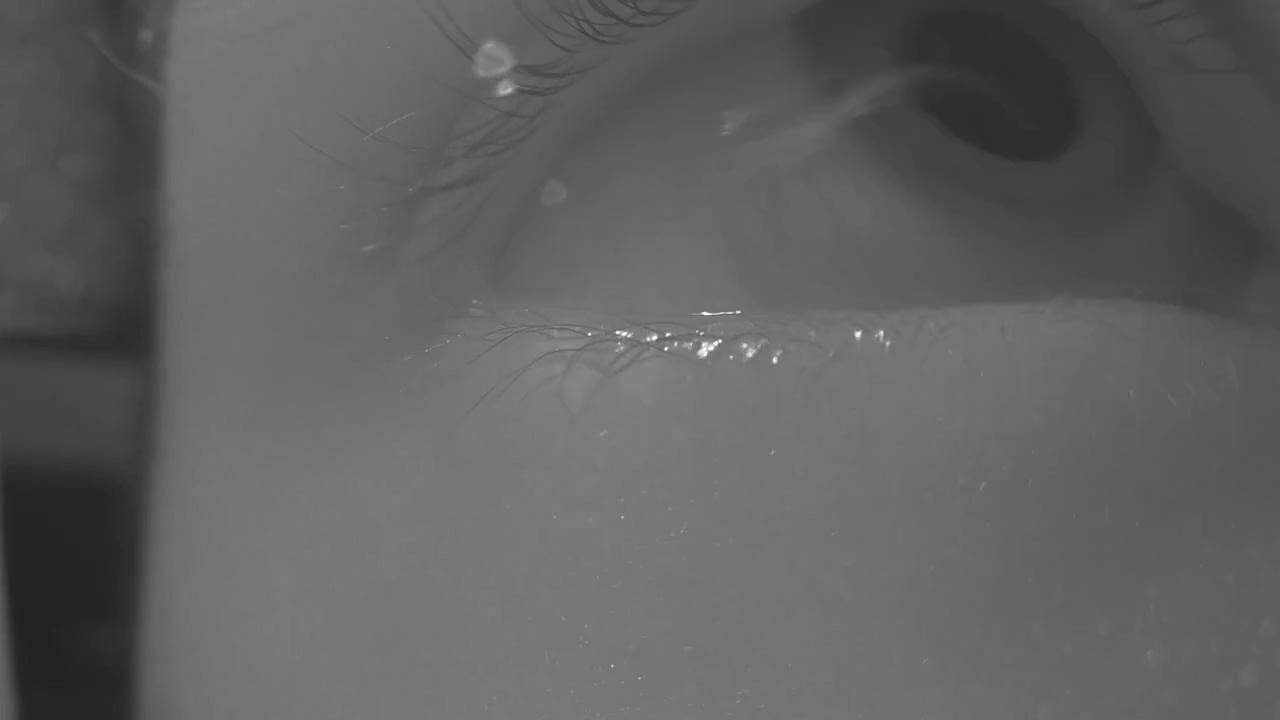pupil: (901, 9, 1079, 164)
